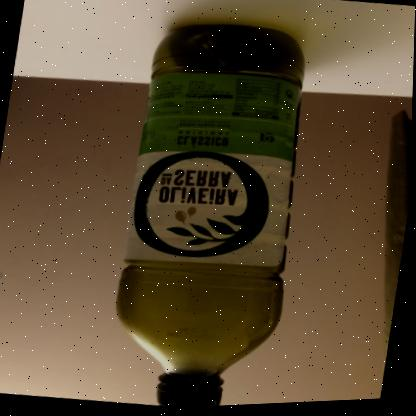Plastic: (117, 26, 305, 409)
